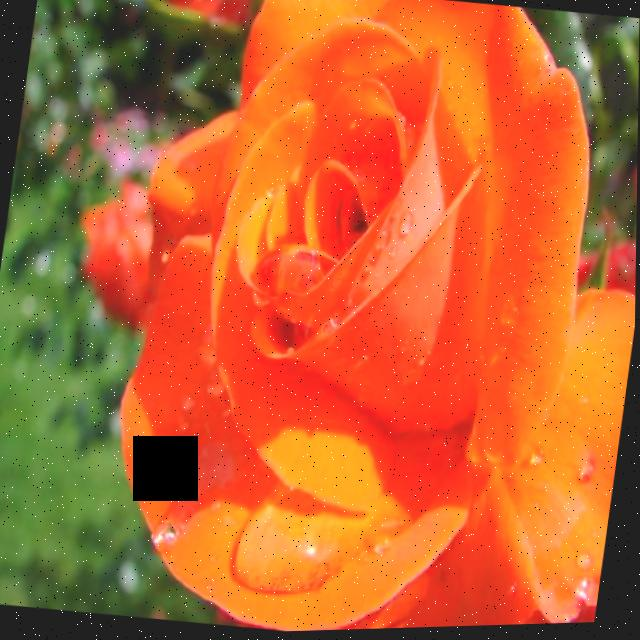rose: (80, 0, 640, 638)
